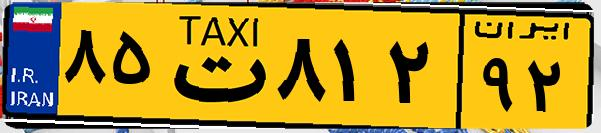1: (330, 28, 385, 110)
2: (385, 28, 445, 110), (525, 38, 570, 115)
5: (110, 28, 158, 98)
8: (270, 28, 330, 110), (57, 26, 110, 100)
9: (475, 38, 525, 113)
ت: (158, 12, 270, 120)
